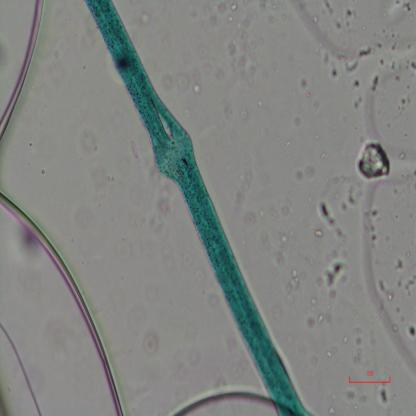Air bubble: (0, 189, 123, 415), (0, 0, 45, 150), (169, 385, 276, 414)
Background material: (144, 186, 177, 267), (222, 15, 258, 79), (352, 138, 391, 186), (314, 203, 346, 242), (170, 342, 199, 378), (277, 225, 302, 266), (374, 53, 416, 77), (341, 44, 371, 74), (320, 262, 349, 293), (360, 205, 380, 249), (162, 67, 200, 88), (181, 252, 204, 285), (334, 8, 359, 38), (302, 295, 324, 329), (78, 121, 98, 156), (235, 167, 253, 202), (375, 275, 396, 305), (349, 74, 364, 114), (286, 269, 302, 306), (326, 245, 362, 261), (342, 181, 360, 213), (344, 386, 367, 411), (351, 326, 364, 367), (92, 167, 115, 188), (141, 278, 157, 307), (130, 128, 143, 163), (267, 206, 296, 221), (259, 224, 273, 255), (291, 166, 318, 182), (201, 2, 218, 27), (376, 376, 390, 406), (212, 361, 227, 387), (377, 22, 397, 40), (144, 329, 156, 358), (393, 96, 412, 114), (126, 177, 143, 197), (180, 101, 194, 123), (402, 275, 416, 296), (318, 43, 330, 67), (270, 302, 284, 322), (327, 63, 341, 83), (395, 0, 413, 15), (300, 75, 312, 97), (318, 0, 334, 15), (139, 8, 150, 27), (405, 322, 416, 340), (197, 43, 210, 58), (245, 212, 257, 228), (257, 0, 271, 13), (200, 58, 210, 75), (328, 345, 340, 359), (291, 113, 302, 128), (370, 76, 380, 92), (391, 182, 401, 198), (216, 1, 228, 14), (209, 292, 218, 308), (318, 150, 329, 162), (239, 108, 249, 121), (389, 321, 399, 333), (298, 257, 313, 265), (395, 258, 404, 271), (404, 82, 412, 96), (193, 85, 204, 95), (389, 40, 397, 53), (229, 2, 238, 13), (404, 42, 413, 52), (332, 190, 340, 201), (256, 97, 264, 108), (384, 122, 392, 132), (394, 302, 400, 315), (404, 250, 411, 261), (374, 40, 383, 48), (312, 14, 318, 25), (394, 72, 400, 83), (330, 289, 336, 299), (342, 334, 348, 344), (330, 407, 337, 415), (227, 14, 234, 22), (41, 166, 46, 176), (387, 230, 391, 242), (394, 213, 400, 221), (412, 264, 416, 271), (28, 142, 33, 147), (287, 140, 290, 148), (362, 28, 366, 31)
Microfibre: (84, 0, 309, 415)
